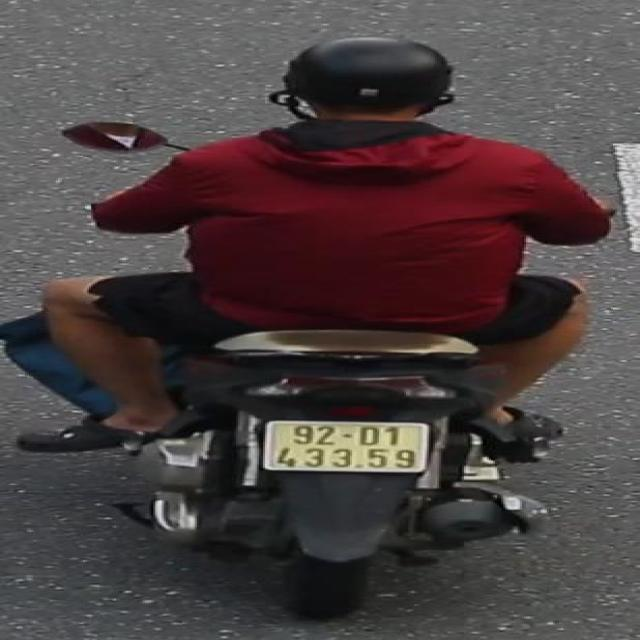LP: (258, 412, 436, 478)
helmet: (264, 34, 480, 142)
